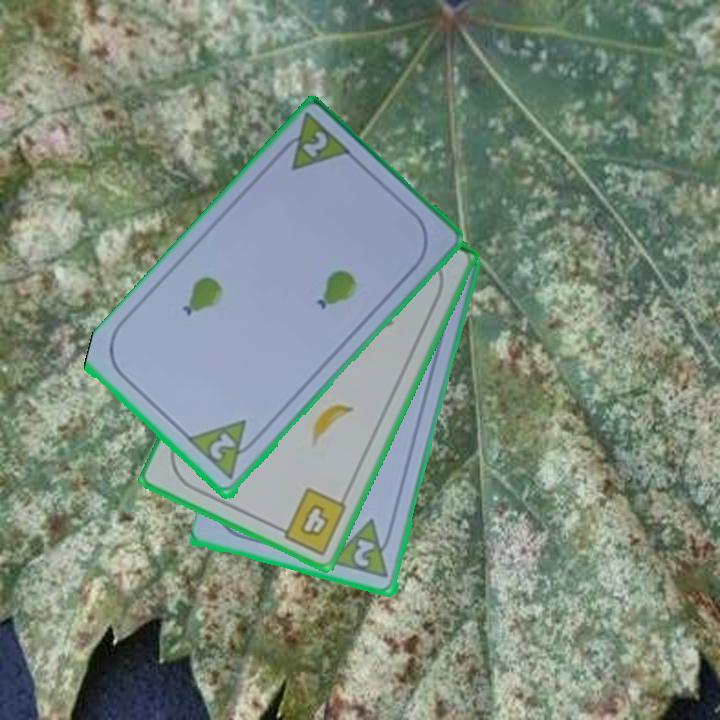2p: (272, 110, 356, 175), (205, 430, 239, 464), (350, 535, 379, 570)
4b: (271, 484, 350, 559)
